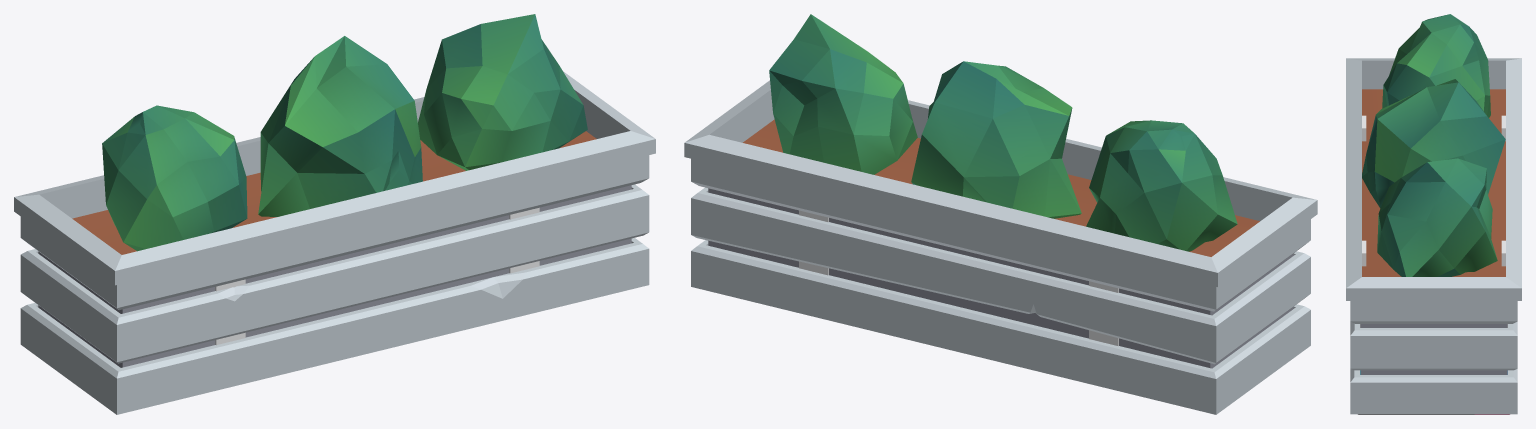
The model's file is MACETA CON MADERA.fbx.
3 renders of one model, left to right at view 1: azimuth 30°, elevation 25°; view 2: azimuth 150°, elevation 25°; view 3: azimuth 270°, elevation 25°, orthographic. The views are drawn at different scales.
Parts seen in each view (by area): view 1: edificio 2.003; view 2: edificio 2.003; view 3: edificio 2.003.
Boxes of the visible parts, x1,y1,x2,y2 form: edificio 2.003: (14,14,655,414); edificio 2.003: (684,14,1317,414); edificio 2.003: (1346,14,1521,414).
Bounding box in the file's own units: 367 × 119 × 173.
Materials: 1 (1 with a texture image).
